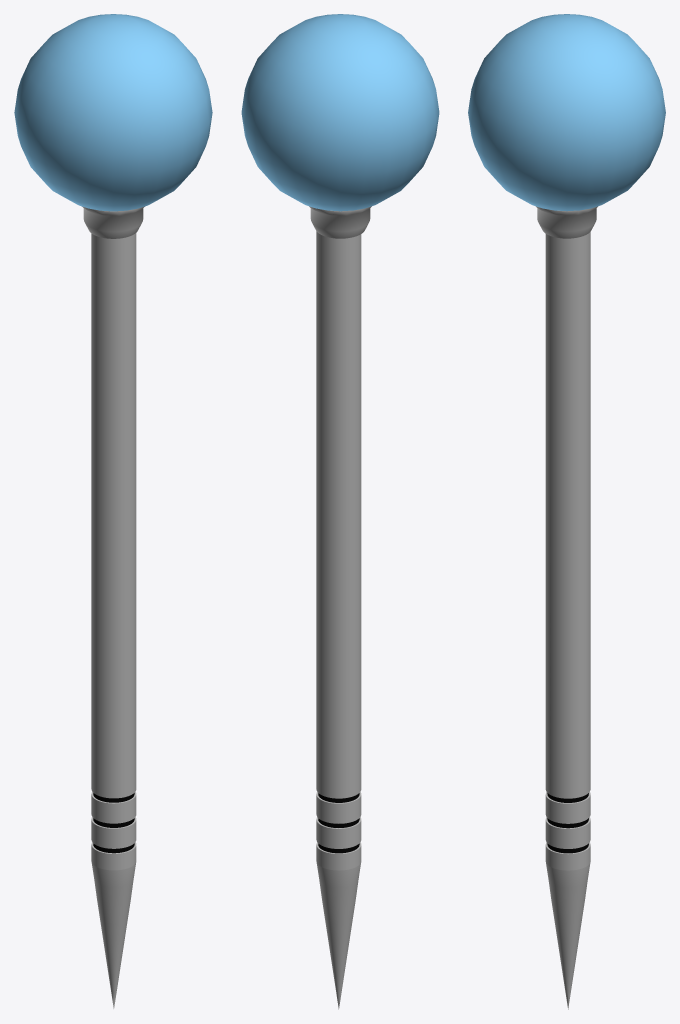
Rendered from LIGHTSKYBLUE.glb.
3 views of the same model, side by side, from view 1: azimuth 30°, elevation 25°; view 2: azimuth 150°, elevation 25°; view 3: azimuth 270°, elevation 25° (orthographic).
Parts seen in each view (by area): view 1: Needle, Sphere, Ball_Holder; view 2: Needle, Sphere, Ball_Holder; view 3: Needle, Sphere, Ball_Holder.
Part boxes in pixels (left/top/right/bottom): Needle: left=91, top=233, right=136, bottom=1008; Sphere: left=14, top=14, right=212, bottom=211; Ball_Holder: left=82, top=206, right=144, bottom=238; Needle: left=316, top=231, right=361, bottom=1009; Sphere: left=241, top=14, right=439, bottom=211; Ball_Holder: left=309, top=206, right=371, bottom=238; Needle: left=545, top=232, right=590, bottom=1009; Sphere: left=468, top=14, right=665, bottom=211; Ball_Holder: left=536, top=206, right=597, bottom=238.
Bounding box in the file's own units: 2.2 × 12.1 × 2.2.
